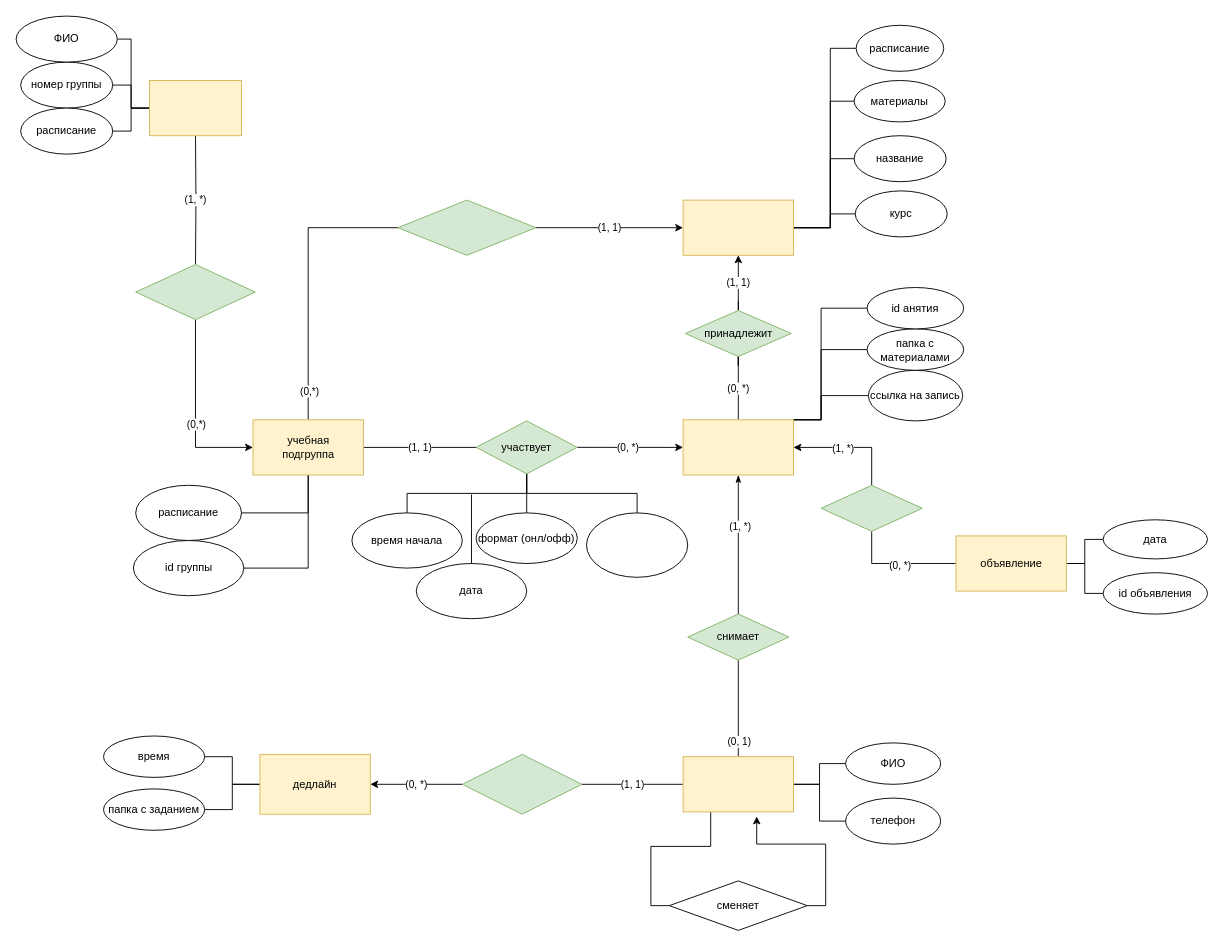
Image size: 1224x947. Some labels were removed from this diagram. Each missing label, with the box of its shape:
выставляет: (461, 753, 582, 814)
дисциплина: (682, 199, 794, 255)
занятие: (682, 419, 794, 475)
изучает: (397, 199, 536, 255)
место проведения (ауд/ссылка): (586, 512, 688, 577)
оператор: (682, 756, 794, 812)
относится: (820, 484, 922, 531)
состоит: (135, 264, 255, 320)
студент: (149, 80, 242, 136)
